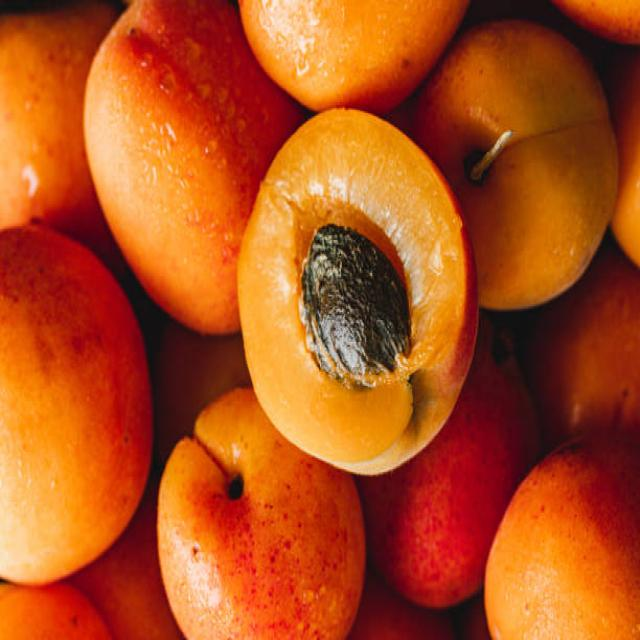kayisi: (446, 80, 636, 628), (40, 44, 253, 350), (152, 433, 394, 640), (17, 380, 140, 622)
kayisi-cekirdegi: (296, 214, 424, 388)
